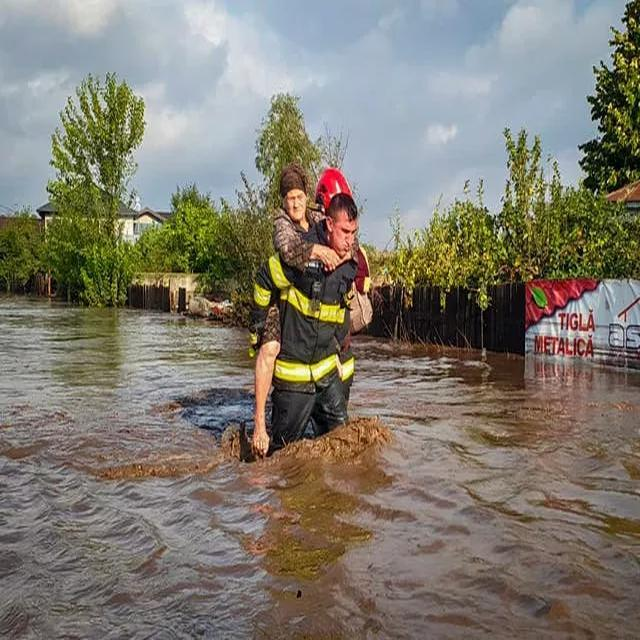Person-RiskLevel2: (240, 153, 365, 458)
